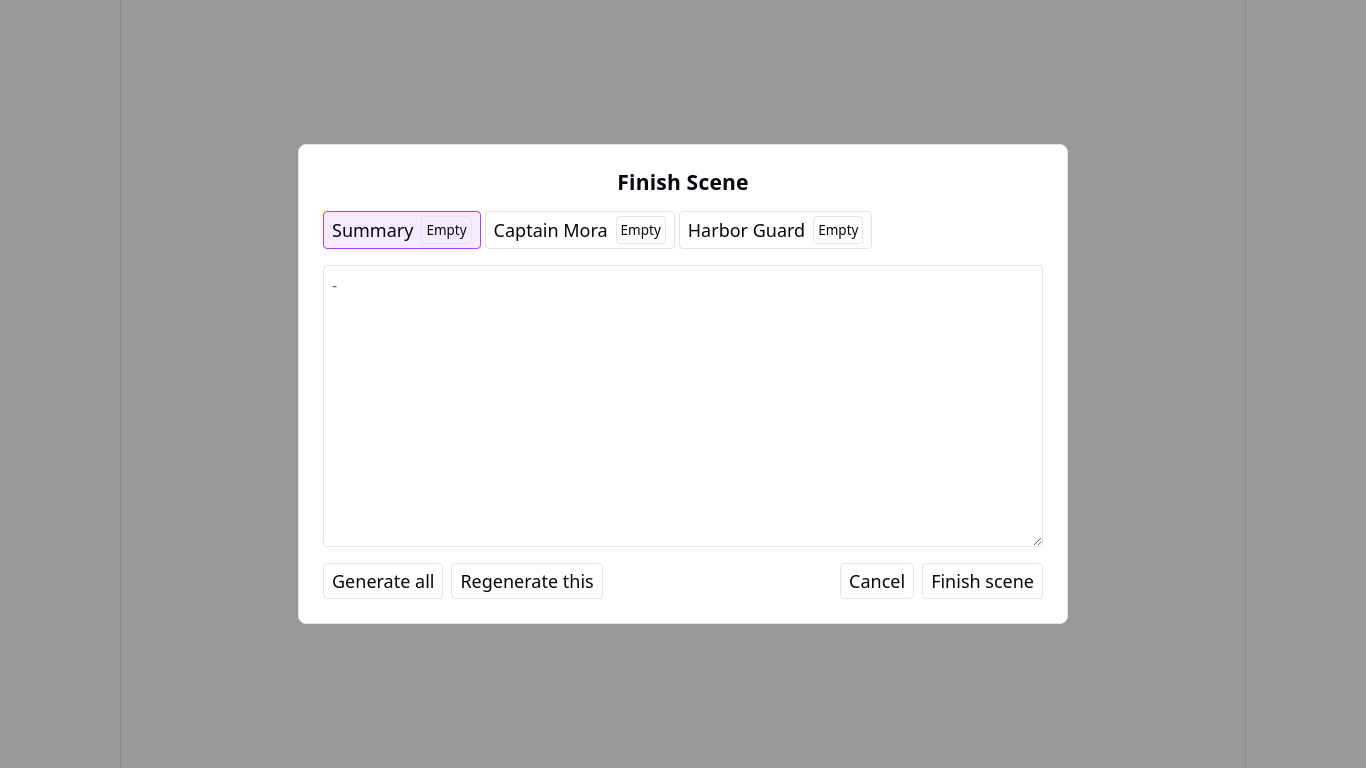
Test case: CharacterFinishModal › disables Finish while generating but keeps Cancel enabled
Click the button "Regenerate this" at x=527, y=581, box [451, 563, 603, 599]
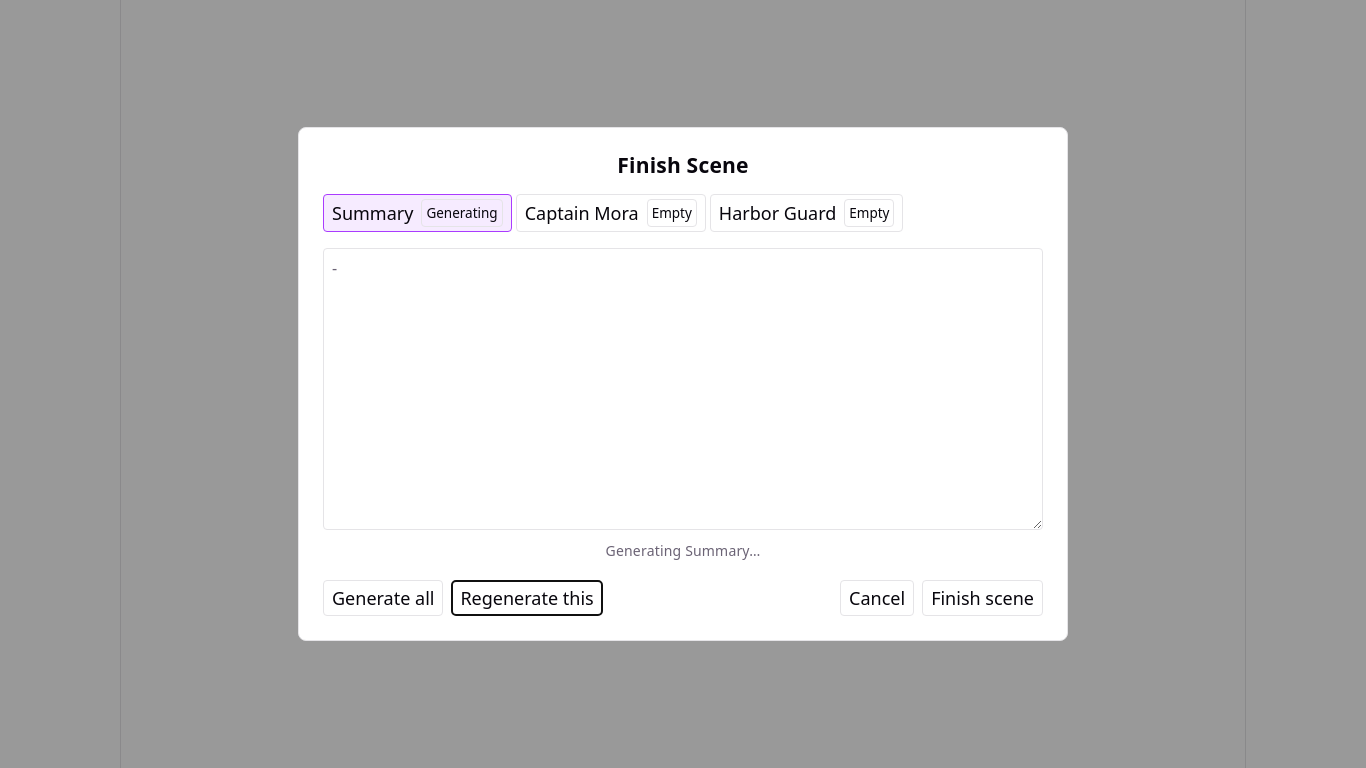
Check: the button "Cancel" is enabled, box [840, 580, 914, 616]
Check: the button "Finish scene" is disabled, box [922, 580, 1043, 616]
Check: the message shows "Generating Summary", box [606, 541, 760, 560]
